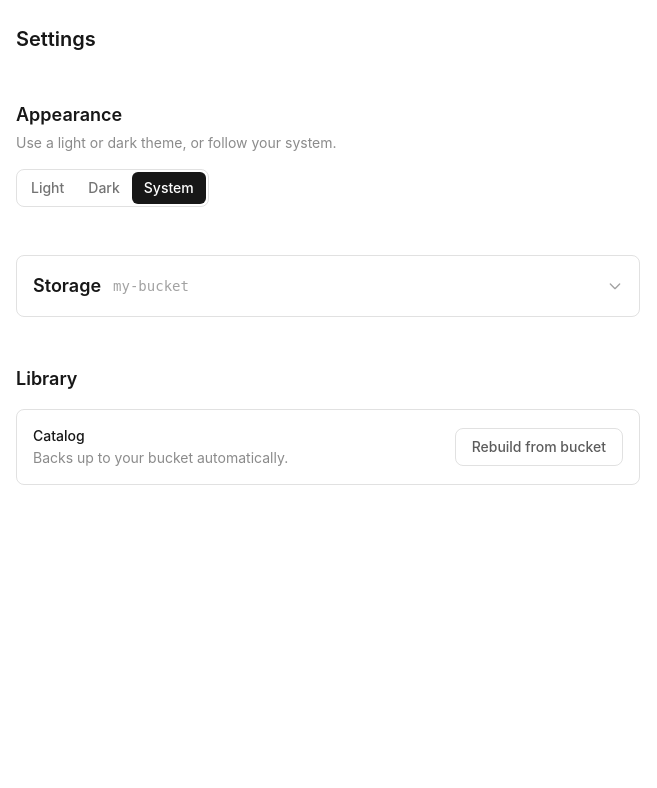
Settings storage fold › reveals the form when the heading is clicked
Check: the heading "Storage" is shown, box 33,272 -> 101,300
Click the button "Storage my-bucket" at (67,286), box 17,256 -> 639,316
(page scrolled)
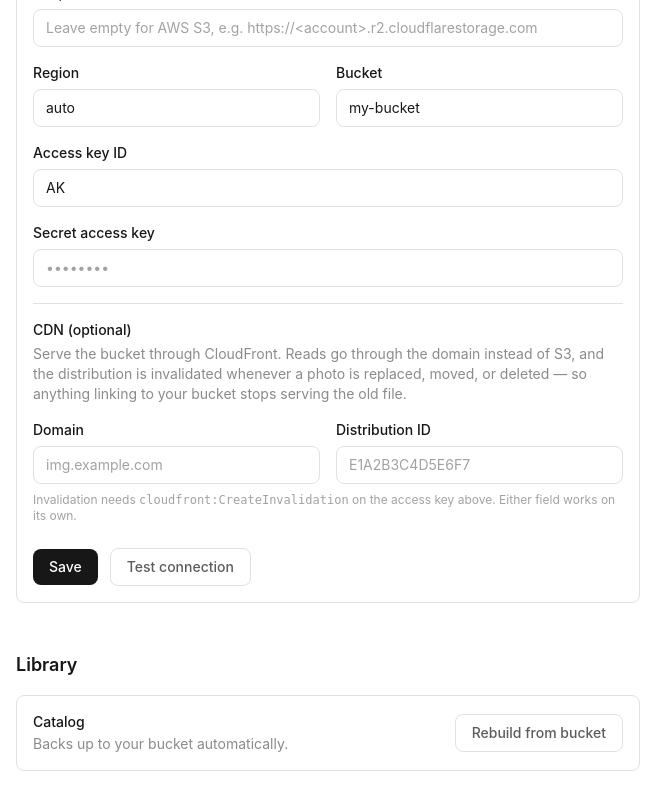
Check: the text "Bucket" is shown, box 336,64 -> 382,81
Check: the button "Test connection" is shown, box 110,548 -> 251,586
